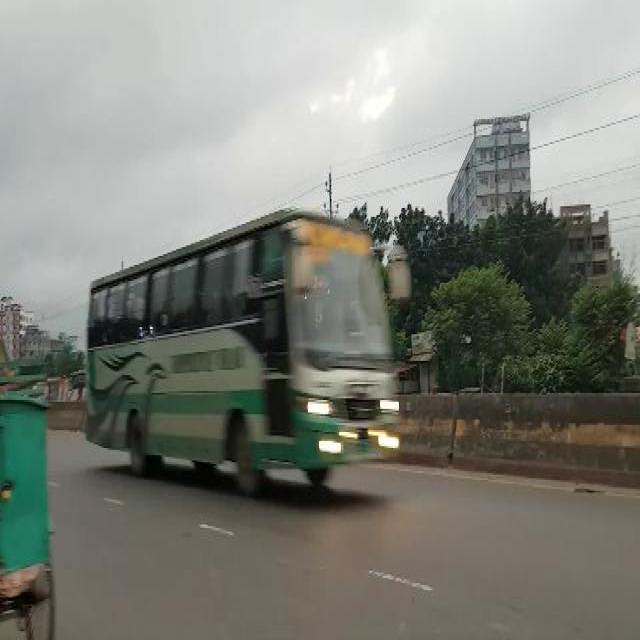Bus: (72, 215, 420, 496)
